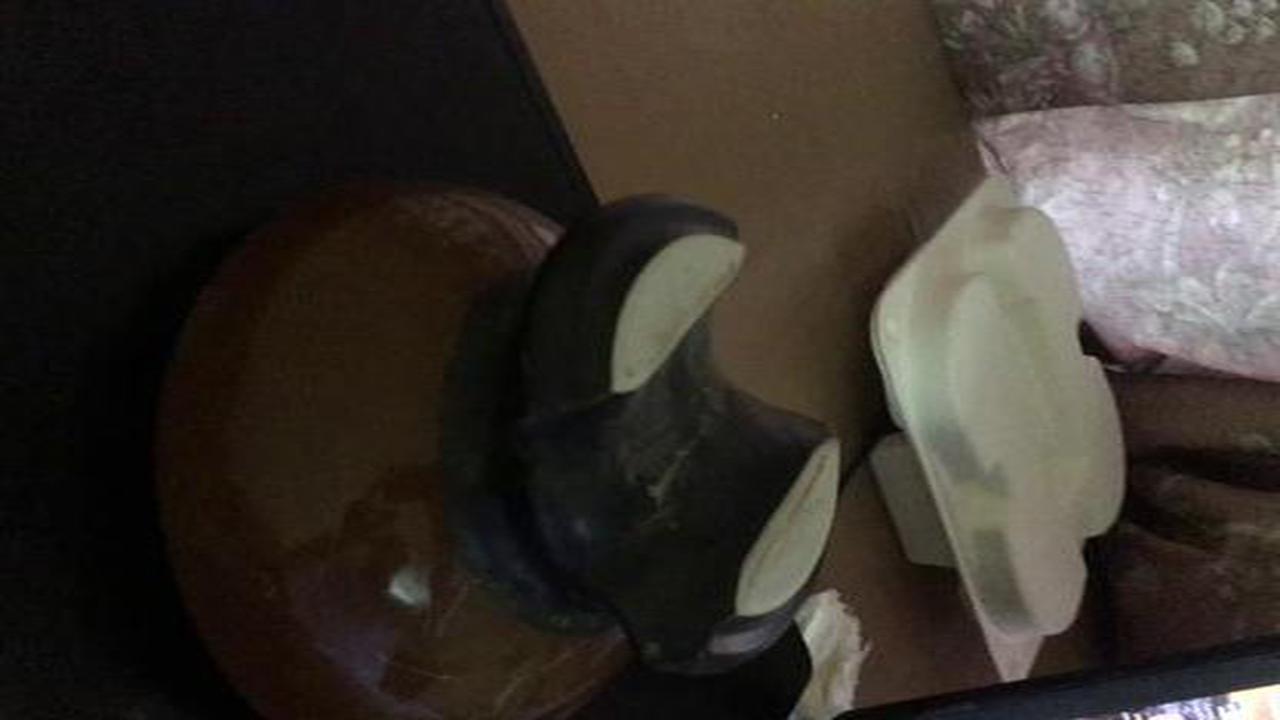insulator_pin: (117, 170, 871, 714)
